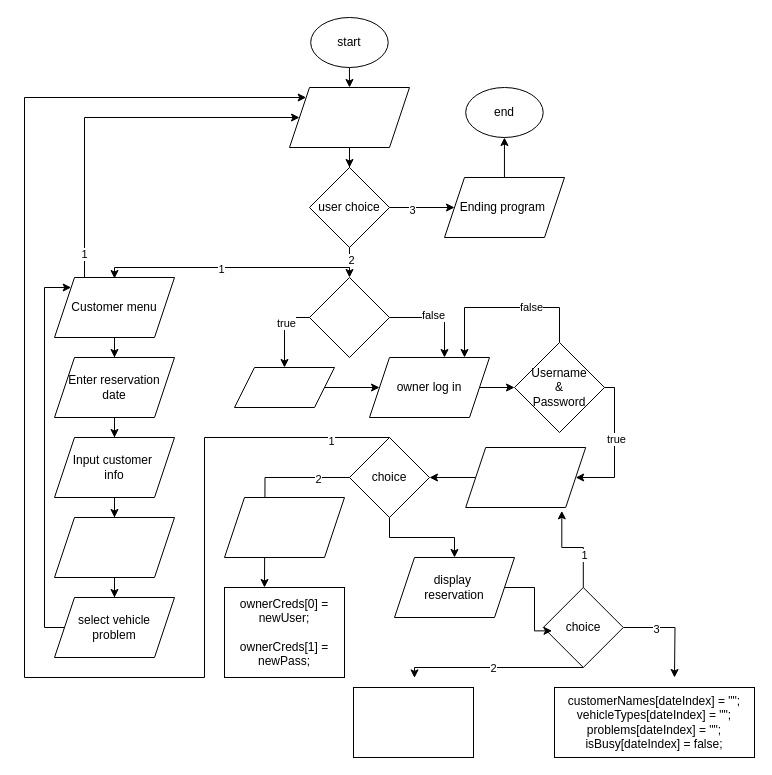
The diagram is 772 pixels wide and 775 high, and some of its shapes have lost their labels. Here are the shapes that lost their labels. From the top down, the centre of each, then its label:
At [349,117]: "Display main menu".
At [349,317]: "first log in".
At [284,387]: "Show creds".
At [525,477]: "owner menu".
At [114,547]: "Select vehicle type".
At [284,527]: "change creds".
At [413,722]: "problems[dateIndex] = problemList[choice];".
